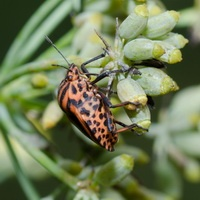insect: (48, 39, 147, 150)
